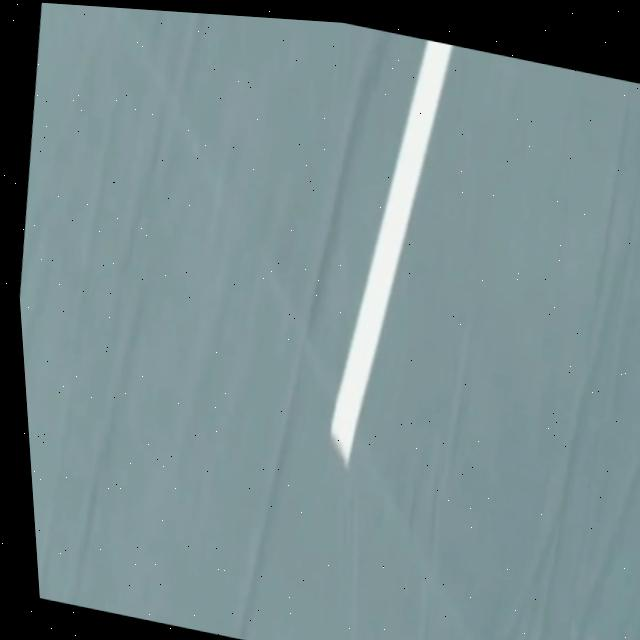center: (331, 40, 454, 465)
